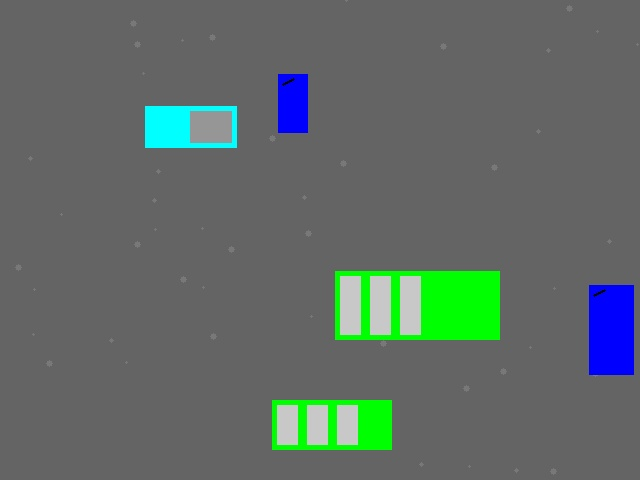bus: (335, 271, 499, 339), (272, 400, 391, 449)
motorcycle: (589, 285, 633, 374), (278, 74, 307, 132)
truck: (145, 106, 236, 147)
